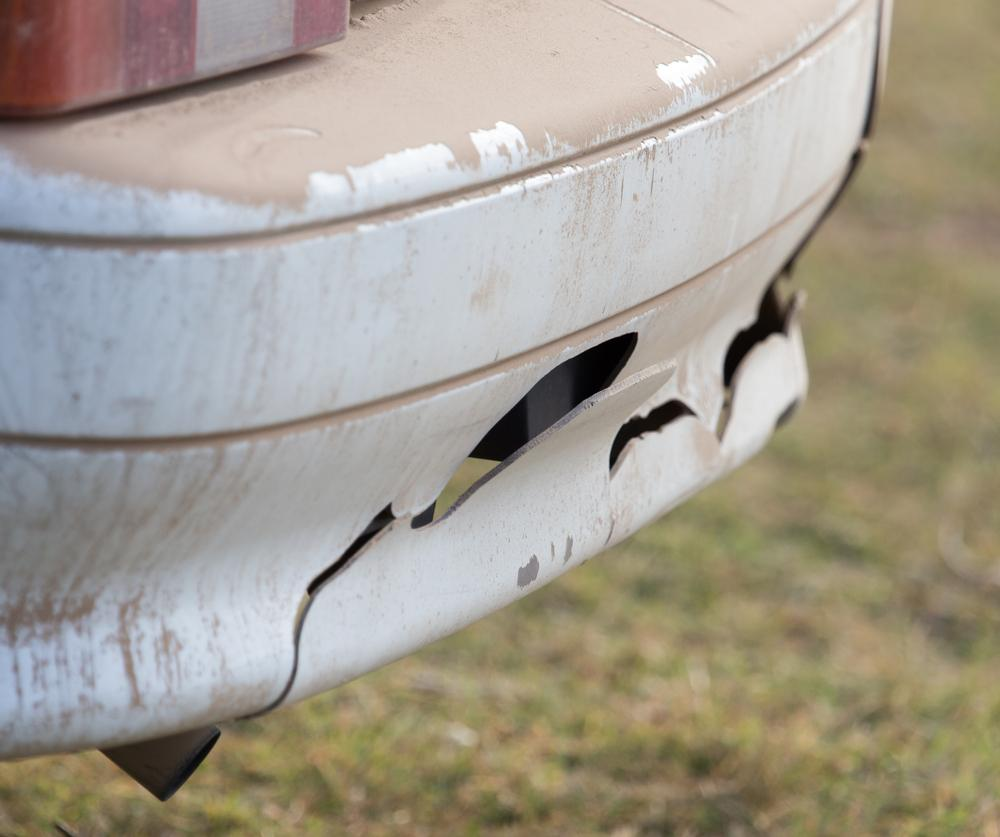crack: (237, 0, 885, 720)
